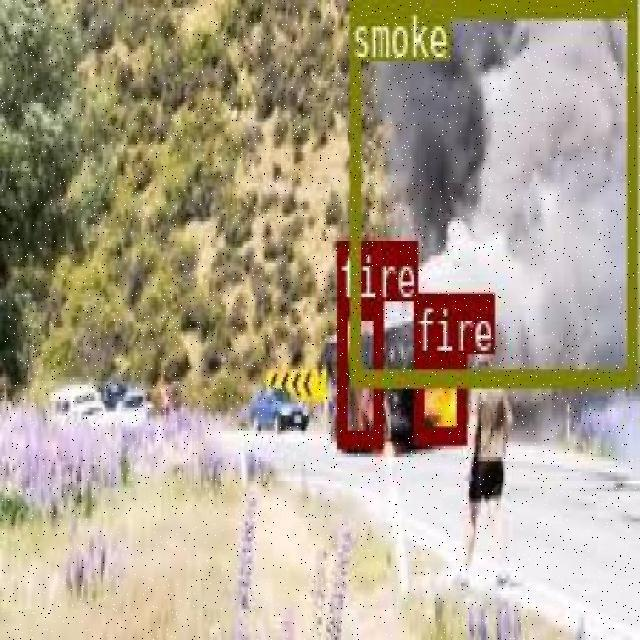Smoke: (350, 0, 636, 385)
